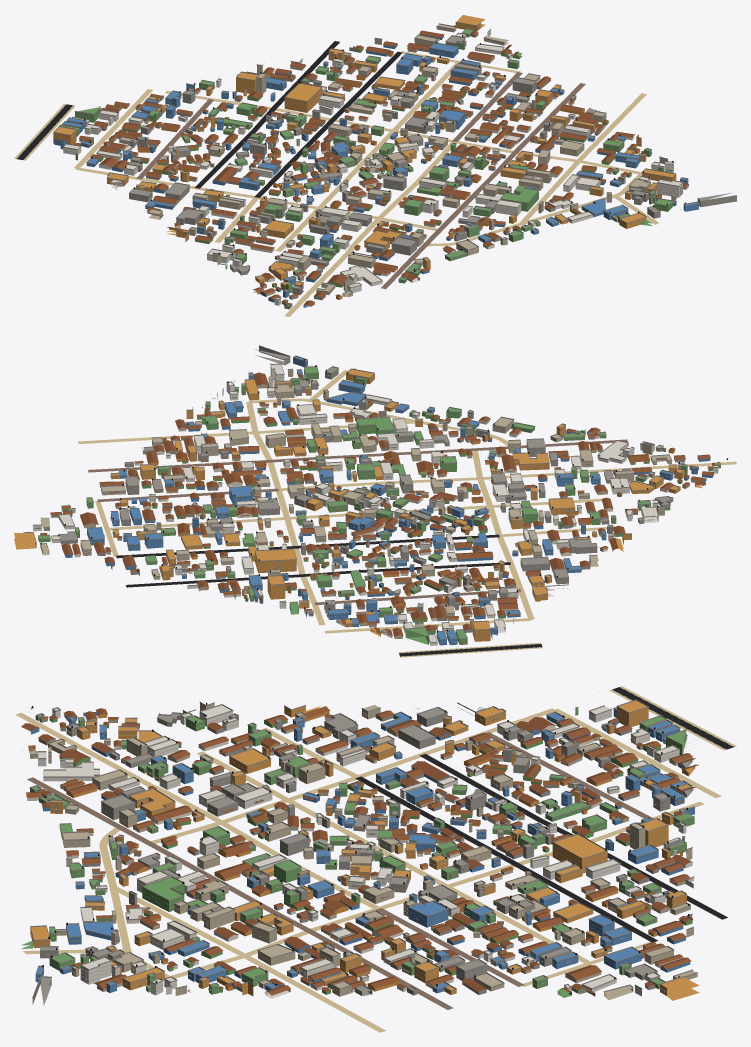
The model's file is zone_t4_2.glb.
3 views of the same model, one above another, from view 1: azimuth 30°, elevation 25°; view 2: azimuth 150°, elevation 25°; view 3: azimuth 270°, elevation 25° (orthographic). The views are drawn at different scales.
Visible parts, largest first — view 1: parapet_t4_2, toit_tole_t4_2, bld_peinture_ocre_t4_2-col, bld_peinture_blanc_t4_2-col, bld_peinture_bleu_t4_2-col, bld_peinture_vert_t4_2-col, bld_beton_t4_2-col, bld_peinture_ecaillee_t4_2-col, route_residential_terre_t4_2, bandeau_t4_2, route_residential_paves_t4_2, route_residential_bitume_t4_2 (+1 smaller); view 2: parapet_t4_2, toit_tole_t4_2, bld_peinture_ocre_t4_2-col, bld_peinture_blanc_t4_2-col, bld_peinture_bleu_t4_2-col, bld_peinture_vert_t4_2-col, bld_peinture_ecaillee_t4_2-col, bld_beton_t4_2-col, route_residential_terre_t4_2, bandeau_t4_2, route_residential_paves_t4_2, route_residential_bitume_t4_2 (+3 smaller); view 3: parapet_t4_2, toit_tole_t4_2, bld_peinture_ocre_t4_2-col, bld_peinture_blanc_t4_2-col, bld_peinture_bleu_t4_2-col, bld_peinture_ecaillee_t4_2-col, bld_peinture_vert_t4_2-col, bld_beton_t4_2-col, route_residential_terre_t4_2, bandeau_t4_2, route_residential_paves_t4_2, route_residential_bitume_t4_2 (+4 smaller).
Part boxes in pixels (<box>): parapet_t4_2: <box>53,17,736,307</box>; toit_tole_t4_2: <box>72,30,688,306</box>; bld_peinture_ocre_t4_2-col: <box>53,15,676,299</box>; bld_peinture_blanc_t4_2-col: <box>63,30,682,305</box>; bld_peinture_bleu_t4_2-col: <box>54,34,698,307</box>; bld_peinture_vert_t4_2-col: <box>60,29,672,309</box>; bld_beton_t4_2-col: <box>79,34,736,307</box>; bld_peinture_ecaillee_t4_2-col: <box>103,24,688,296</box>; route_residential_terre_t4_2: <box>74,51,658,316</box>; bandeau_t4_2: <box>53,25,736,303</box>; route_residential_paves_t4_2: <box>136,72,585,288</box>; route_residential_bitume_t4_2: <box>194,41,402,197</box>; parapet_t4_2: <box>23,345,729,642</box>; toit_tole_t4_2: <box>40,372,715,636</box>; bld_peinture_ocre_t4_2-col: <box>14,369,705,641</box>; bld_peinture_blanc_t4_2-col: <box>33,364,718,645</box>; bld_peinture_bleu_t4_2-col: <box>62,356,713,645</box>; bld_peinture_vert_t4_2-col: <box>38,367,720,644</box>; bld_peinture_ecaillee_t4_2-col: <box>40,369,704,638</box>; bld_beton_t4_2-col: <box>51,346,712,637</box>; route_residential_terre_t4_2: <box>78,370,736,633</box>; bandeau_t4_2: <box>30,349,727,642</box>; route_residential_paves_t4_2: <box>88,439,627,605</box>; route_residential_bitume_t4_2: <box>116,534,510,587</box>; parapet_t4_2: <box>21,699,697,997</box>; toit_tole_t4_2: <box>21,706,698,995</box>; bld_peinture_ocre_t4_2-col: <box>28,700,699,1000</box>; bld_peinture_blanc_t4_2-col: <box>26,705,693,998</box>; bld_peinture_bleu_t4_2-col: <box>30,708,694,993</box>; bld_peinture_ecaillee_t4_2-col: <box>30,703,697,999</box>; bld_peinture_vert_t4_2-col: <box>21,708,694,997</box>; bld_beton_t4_2-col: <box>32,708,693,1005</box>; route_residential_terre_t4_2: <box>15,708,721,1032</box>; bandeau_t4_2: <box>29,707,699,995</box>; route_residential_paves_t4_2: <box>27,732,653,1009</box>; route_residential_bitume_t4_2: <box>355,754,727,942</box>.
Size of the model in its own units: 619 by 20 by 546.
